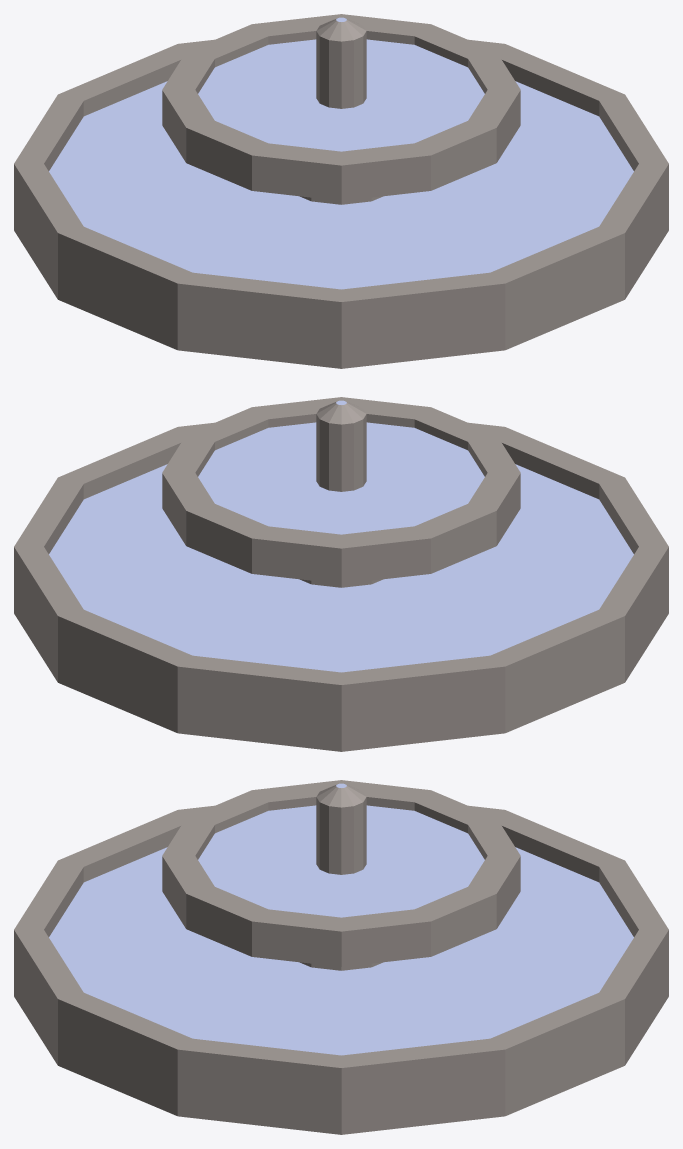
The model's file is Fountain.fbx.
The picture shows the model from 3 angles, top to bottom: view 1: azimuth 30°, elevation 25°; view 2: azimuth 150°, elevation 25°; view 3: azimuth 270°, elevation 25°; orthographic projection.
Parts seen in each view (by area): view 1: Water; view 2: Water; view 3: Water.
Boxes of the visible parts, box(x1,y1,x2,y2) form: Water: box(14, 14, 668, 368); Water: box(14, 397, 668, 751); Water: box(14, 780, 668, 1134).
Bounding box in the file's own units: 800 × 800 × 284.
